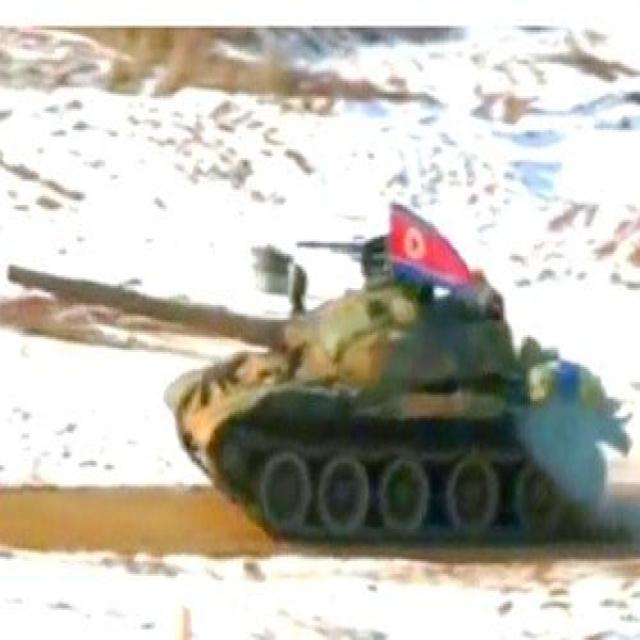north tank: (4, 184, 640, 546)
